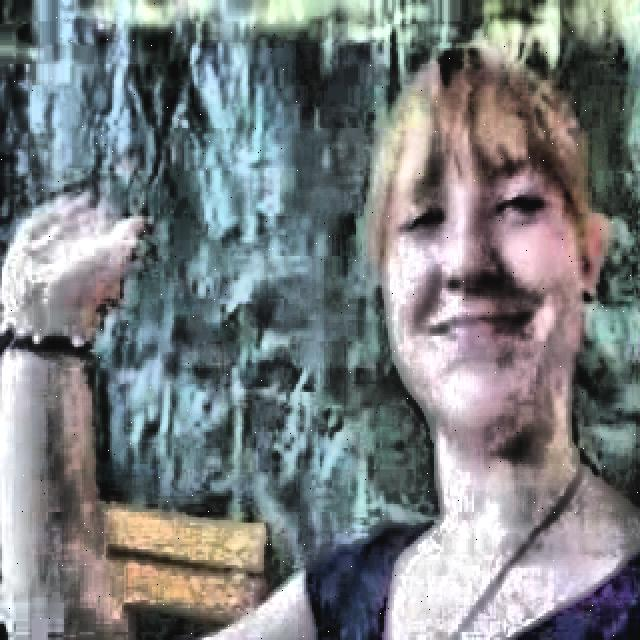T: (6, 46, 636, 636)
